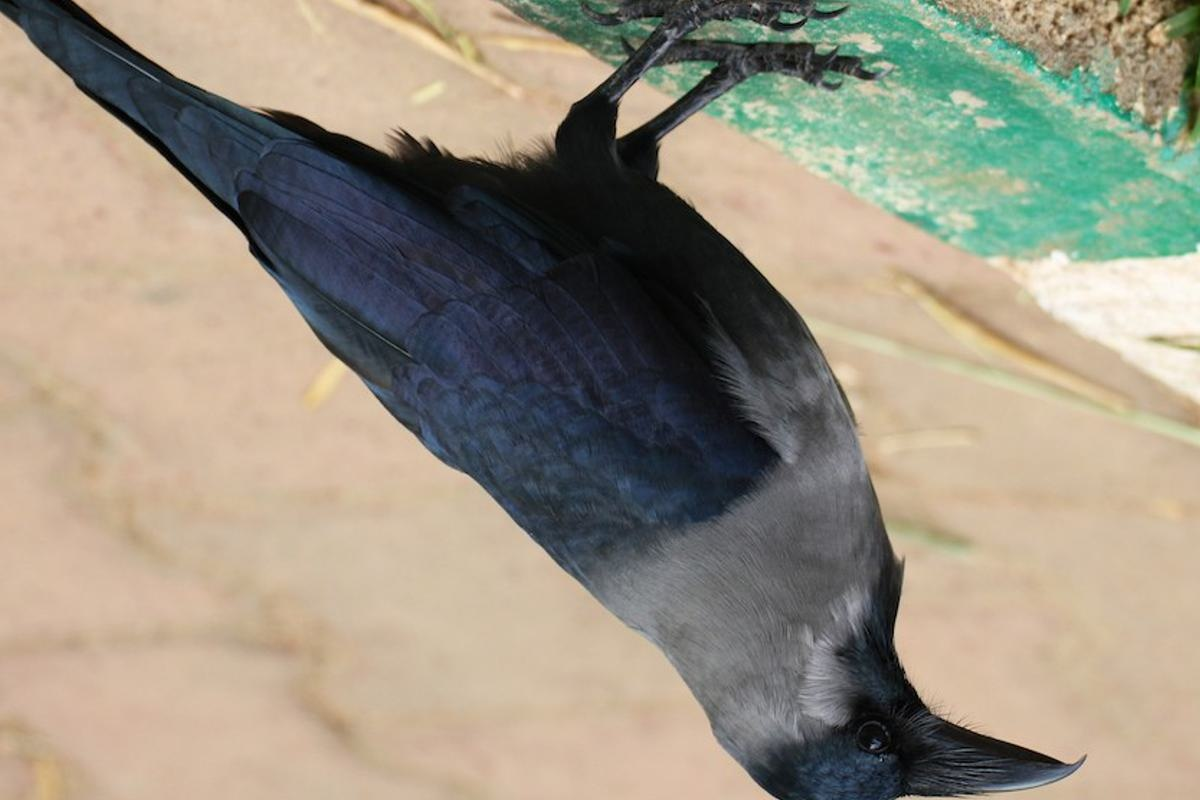crow: (17, 2, 1098, 800)
